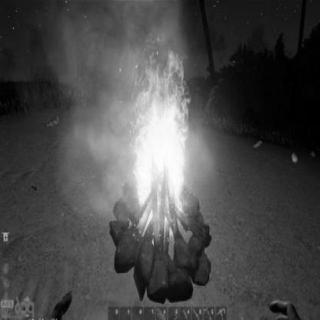Fire: (132, 38, 192, 238)
